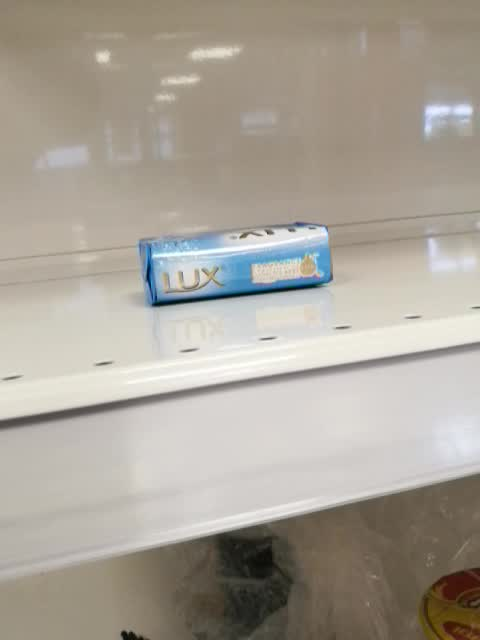soap: (137, 222, 335, 308)
